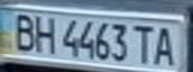3: (109, 20, 133, 64)
4: (57, 16, 81, 57), (75, 18, 96, 60)
6: (93, 19, 115, 62)
A: (151, 22, 184, 69)
B: (6, 11, 39, 53)
H: (30, 12, 57, 55)
T: (130, 22, 157, 65)
